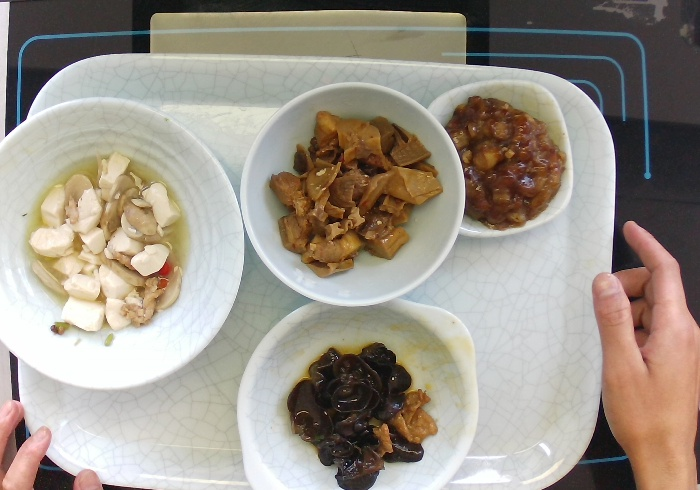JYsf-Fan_Wan: (232, 73, 467, 312)
JYsf-Shuang_Er_Wan: (230, 289, 486, 490)
JYsf-Si_Fang_Die: (421, 68, 573, 247)
JYsf-Xiao_Tang_Wan: (1, 93, 249, 395)
